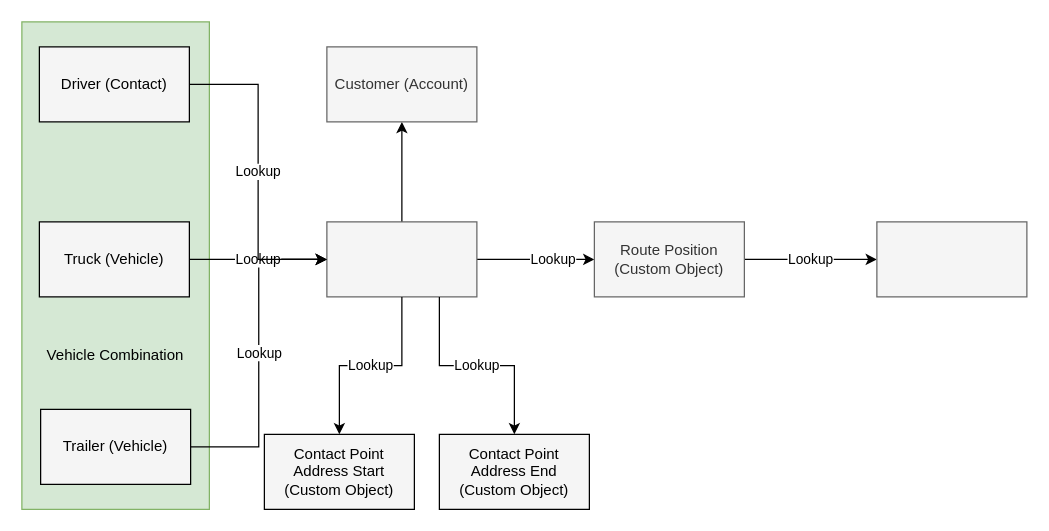
Some shapes in this 1049 by 531 pixel diagram are drawn without their labels. The centre of each missing label's shape, as x and y in pixels:
"Product2" belongs at point 951,259.
"Route (Custom Object)" belongs at point 401,259.
